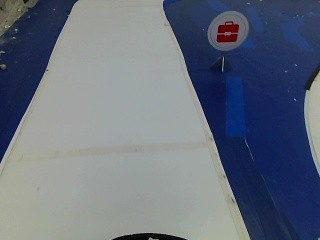company: (209, 15, 247, 51)
